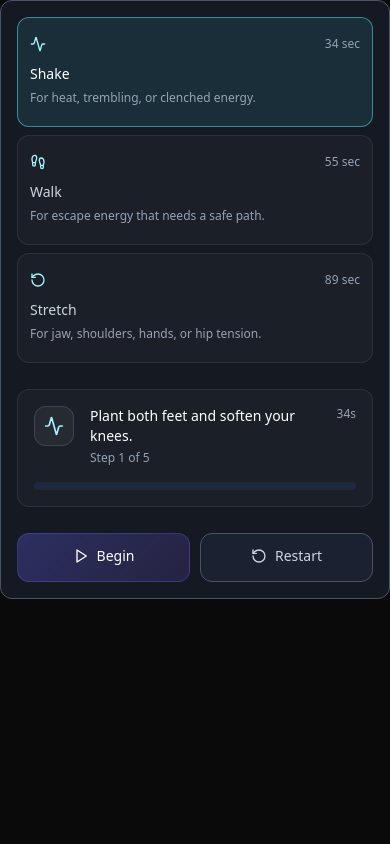
MovementResetPanel › switches to the selected flow
Click the button "55 sec Walk For escape energy that needs a safe path." at (46, 192), box [17,135,373,245]
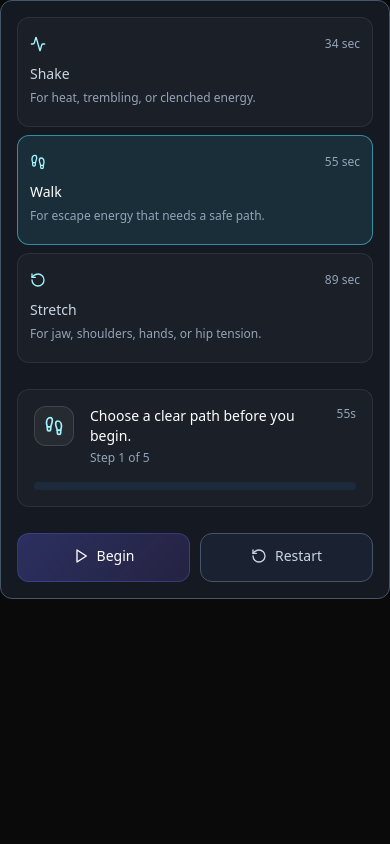
Expected: the text "Choose a clear path before you begin." is shown, [90,406,326,446]
Expected: the text "55s" is shown, [336,406,356,422]
